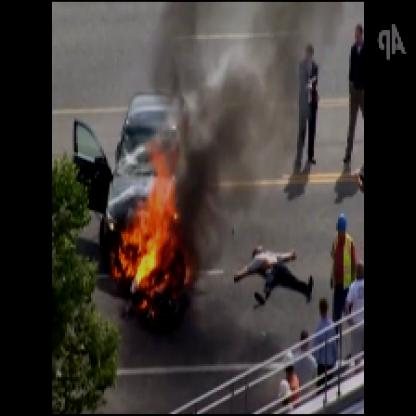Fire: (112, 132, 206, 312)
Smoke: (164, 2, 320, 249)
